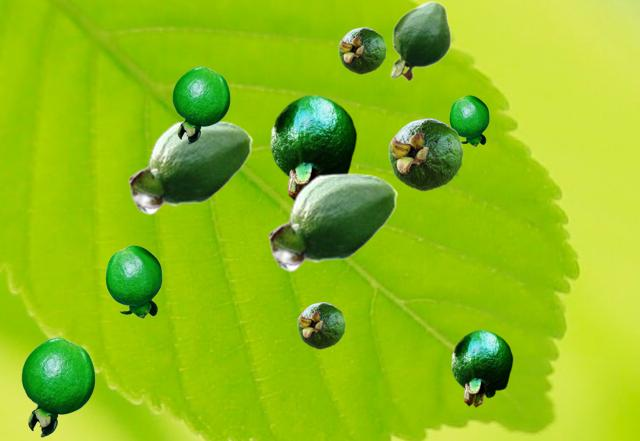guava: (268, 172, 397, 271), (128, 119, 252, 214), (270, 94, 356, 201), (21, 337, 94, 436), (388, 118, 462, 190), (390, 0, 450, 81), (451, 329, 512, 406), (172, 66, 229, 143), (105, 245, 161, 317), (297, 302, 344, 348), (338, 27, 385, 73), (449, 95, 488, 145)
